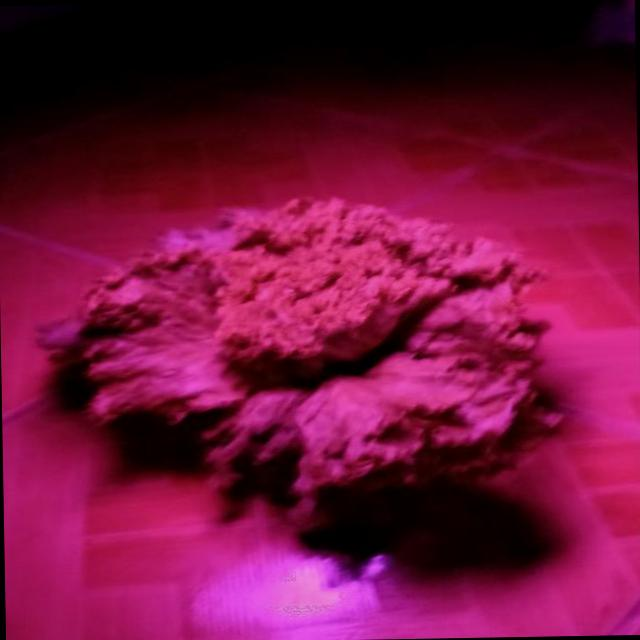Lettuce-Ready-to-Harvest: (45, 198, 560, 527)
